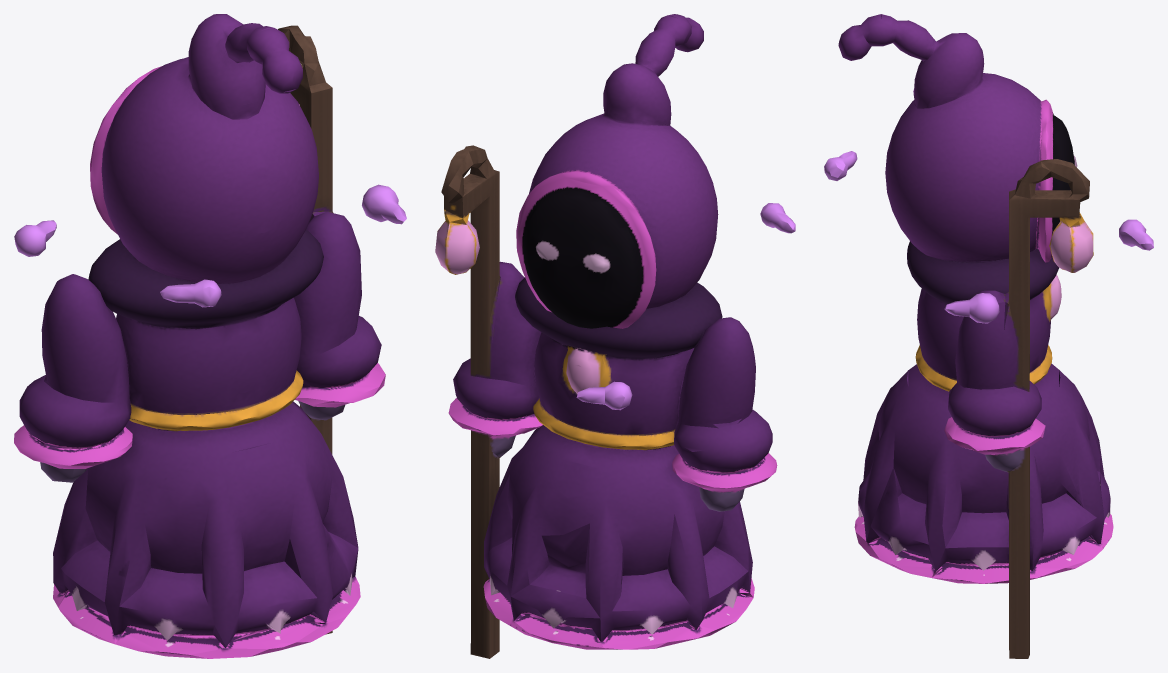
File: Ama.fbx
3 renders of one model, left to right at view 1: azimuth 30°, elevation 25°; view 2: azimuth 150°, elevation 25°; view 3: azimuth 270°, elevation 25°, orthographic. The views are drawn at different scales.
Parts seen in each view (by area): view 1: Robe, Head, Torso, ArmL, ArmR, Wisps; view 2: Robe, Head, ArmR, Torso, ArmL, Wisps; view 3: Robe, Head, ArmR, Torso, Wisps.
Boxes of the visible parts, bbox=[...] form: Robe: bbox=[53, 401, 360, 658]; Head: bbox=[90, 14, 318, 283]; Torso: bbox=[88, 229, 323, 431]; ArmL: bbox=[14, 274, 132, 482]; ArmR: bbox=[278, 25, 385, 634]; Wisps: bbox=[14, 184, 406, 307]; Robe: bbox=[483, 425, 754, 649]; Head: bbox=[516, 14, 718, 328]; ArmR: bbox=[435, 145, 542, 658]; Torso: bbox=[515, 277, 722, 450]; ArmL: bbox=[672, 317, 777, 511]; Wisps: bbox=[576, 203, 795, 410]; Robe: bbox=[854, 363, 1113, 583]; Head: bbox=[838, 14, 1077, 262]; ArmR: bbox=[944, 159, 1093, 658]; Torso: bbox=[907, 241, 1061, 391]; Wisps: bbox=[824, 151, 1153, 323].
Size of the model in its own units: 5.08 by 9.14 by 4.67.
Materials: 1 (1 with a texture image).
